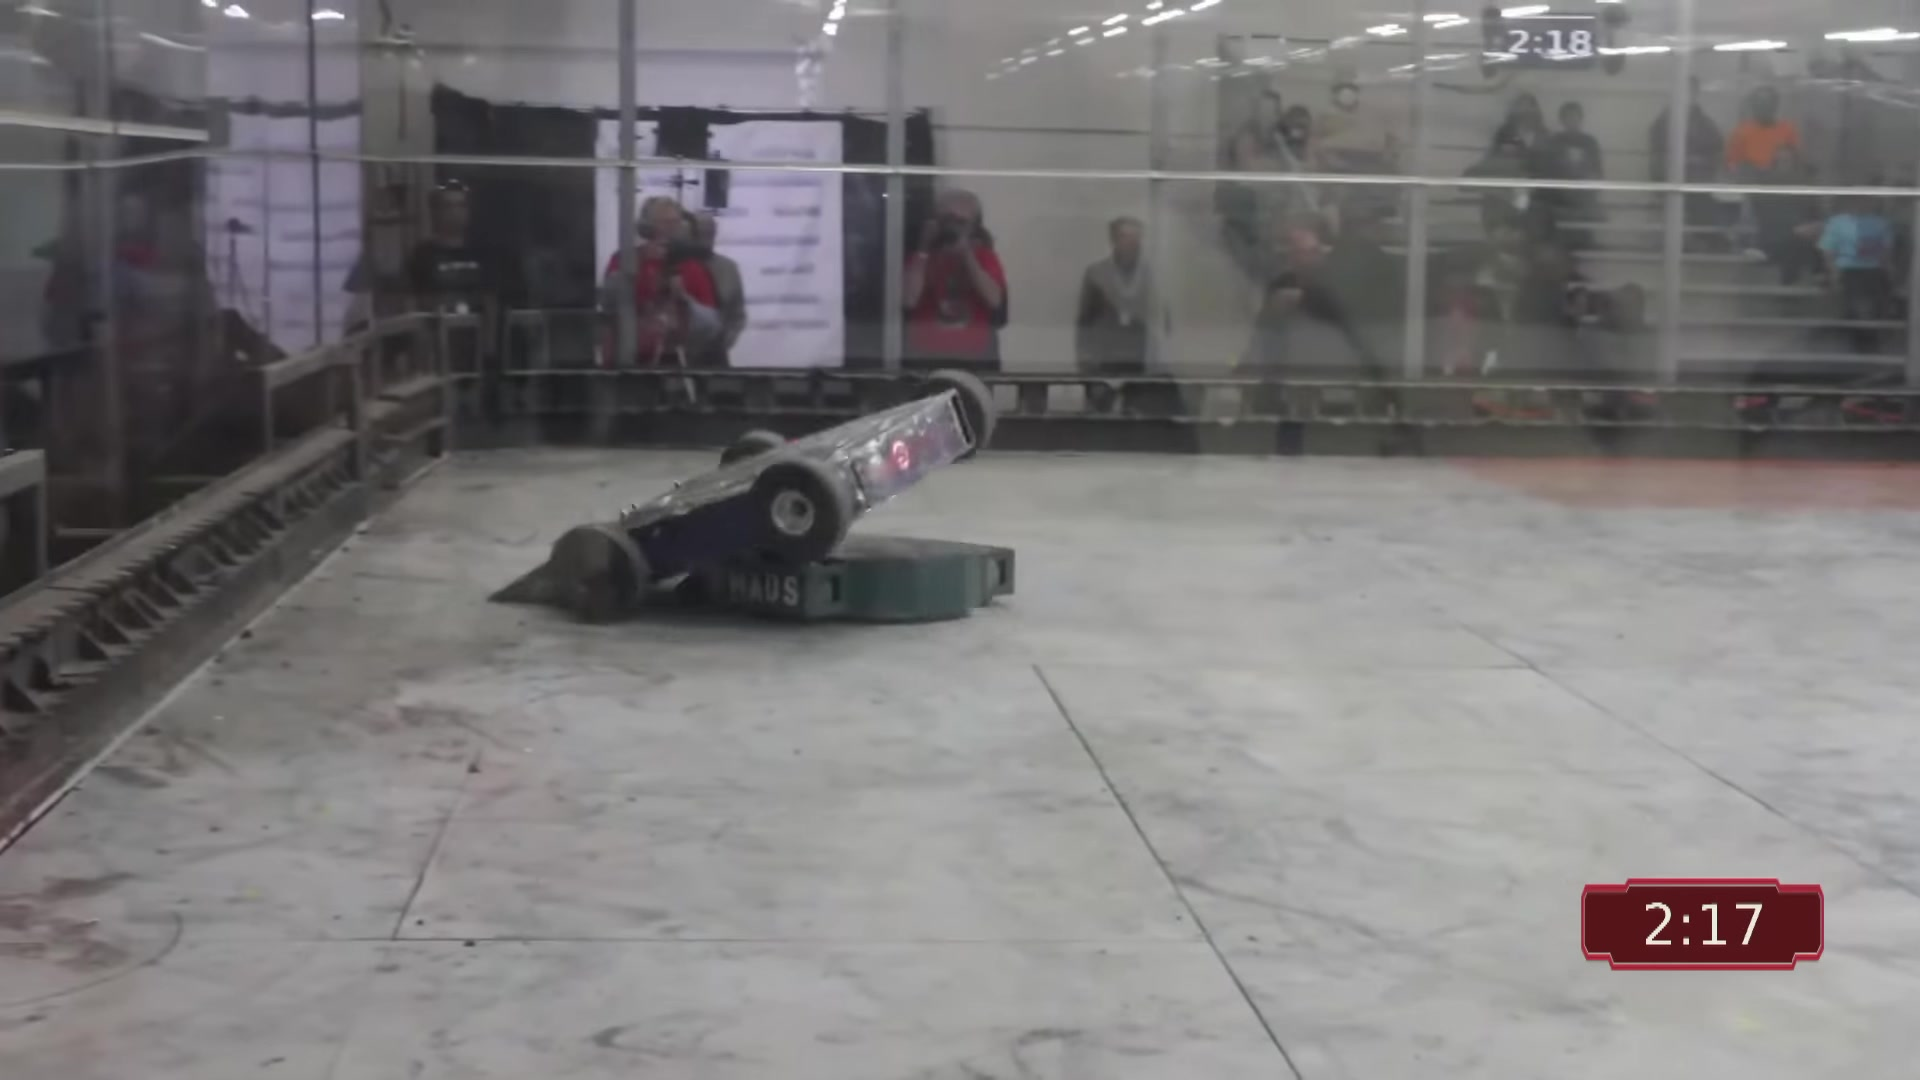combatbot: (495, 376, 992, 611), (673, 533, 1021, 625)
